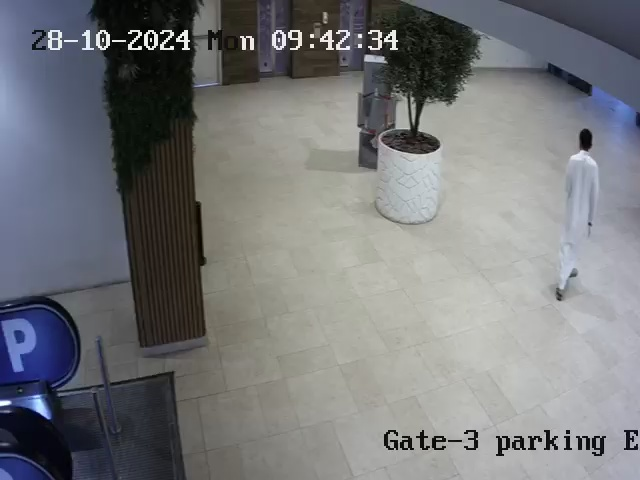male: (555, 128, 600, 301)
